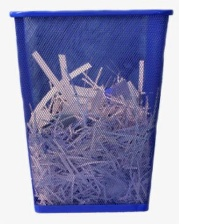book: (16, 47, 161, 207)
